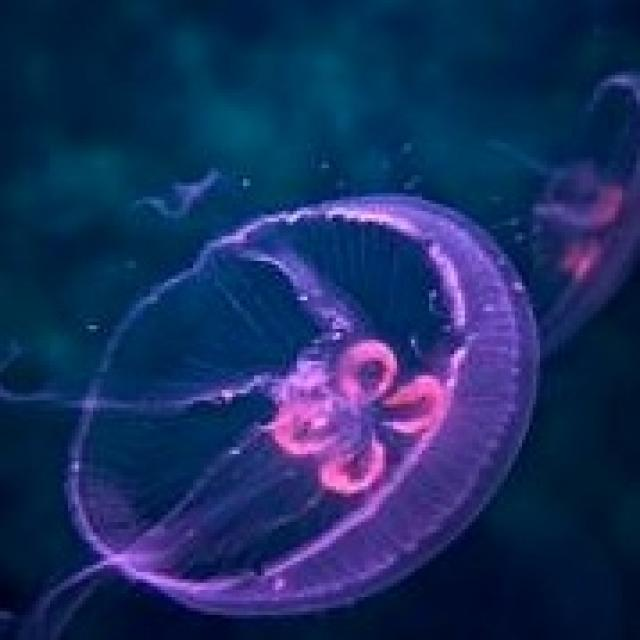Box-jellyfish: (0, 186, 543, 633)
